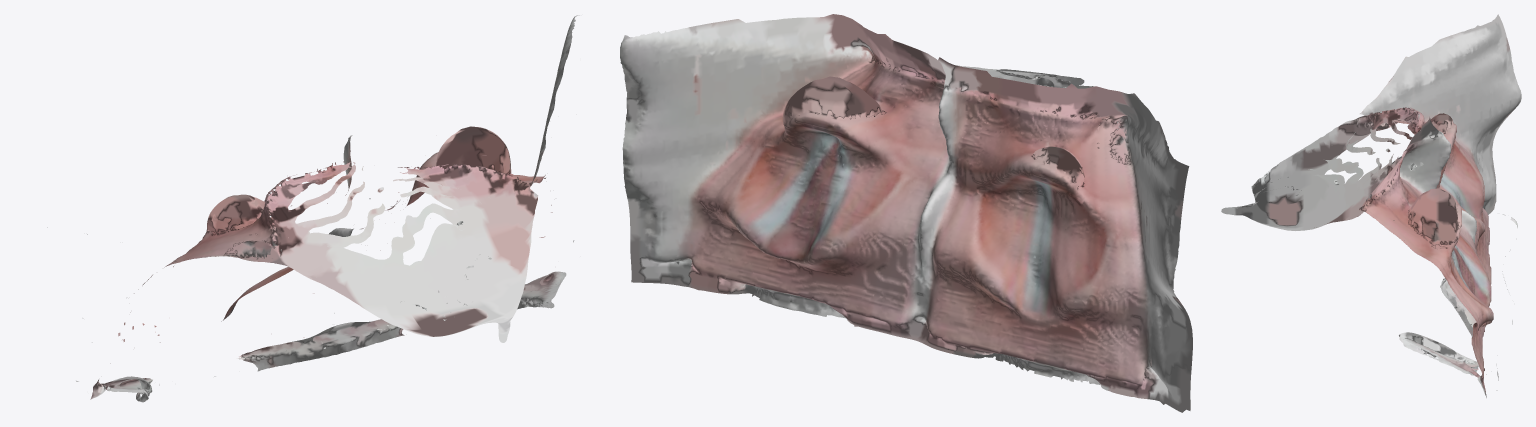
The model's file is lesion (19).gltf.
3 views of the same model, side by side, from view 1: azimuth 30°, elevation 25°; view 2: azimuth 150°, elevation 25°; view 3: azimuth 270°, elevation 25° (orthographic). The views are drawn at different scales.
Size of the model in its own units: 0.00158 by 0.000693 by 0.000968.
